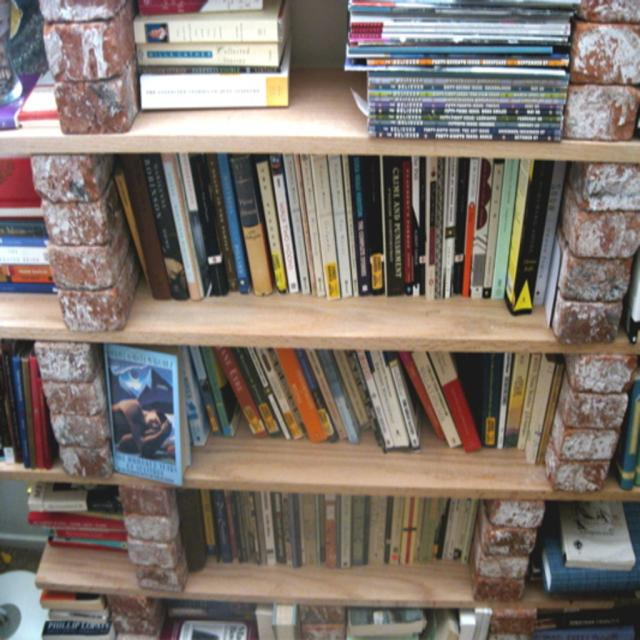Book: (115, 152, 573, 316), (179, 348, 568, 456), (344, 0, 588, 149), (199, 489, 482, 576), (132, 0, 294, 114), (96, 337, 184, 492), (531, 497, 639, 595), (160, 608, 491, 638), (0, 152, 58, 297), (23, 480, 134, 550), (0, 338, 56, 473), (40, 586, 120, 638), (612, 380, 639, 493), (620, 247, 638, 348)
